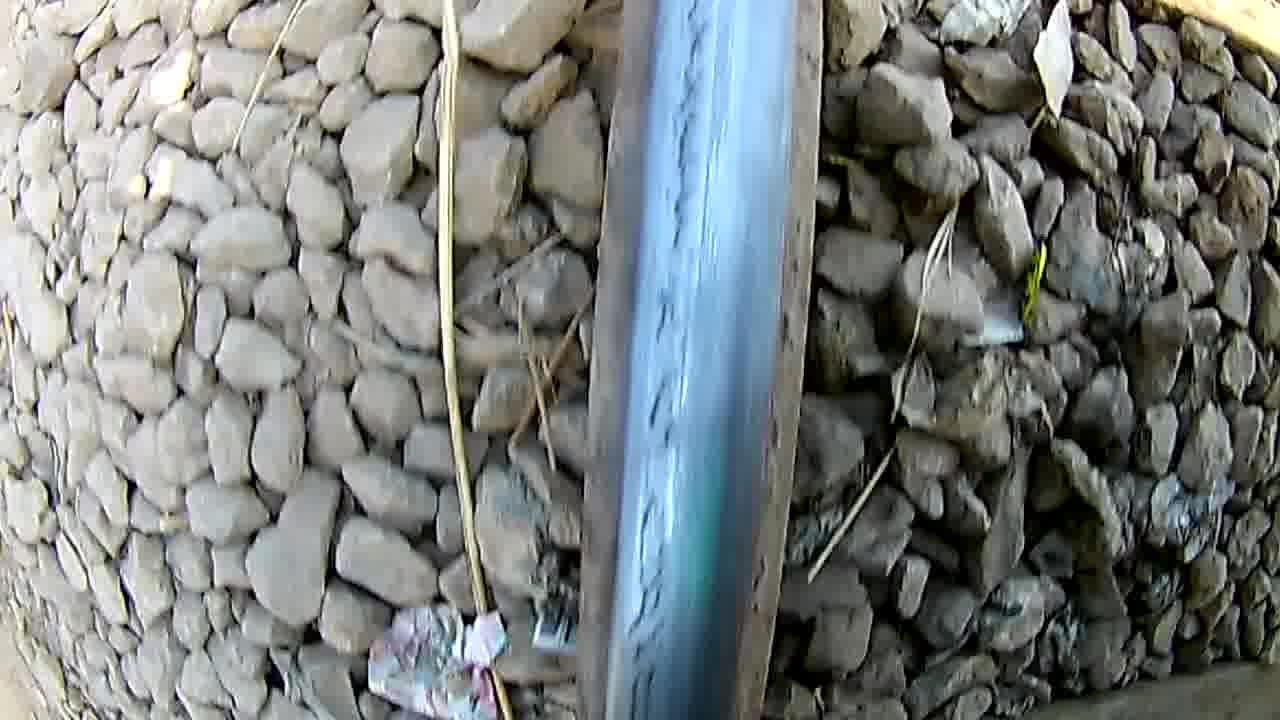normal_track: (620, 0, 723, 720)
